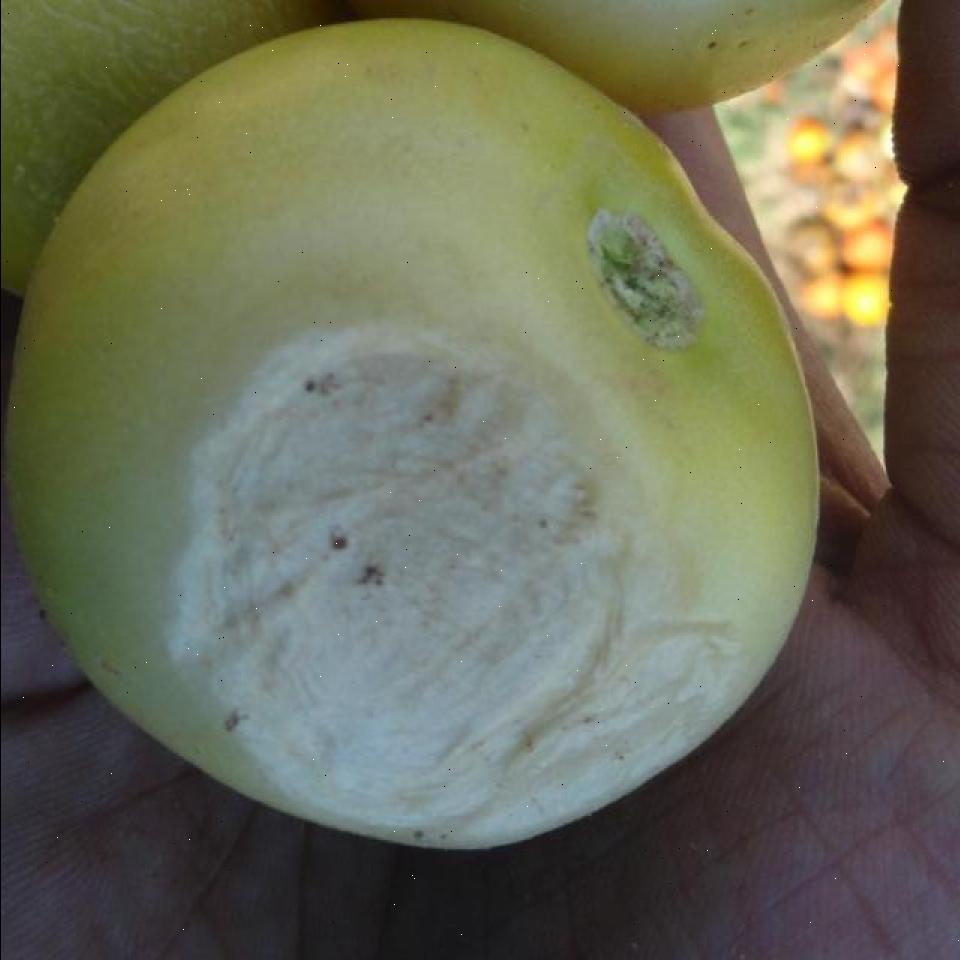Sunscald: (185, 319, 743, 861)
